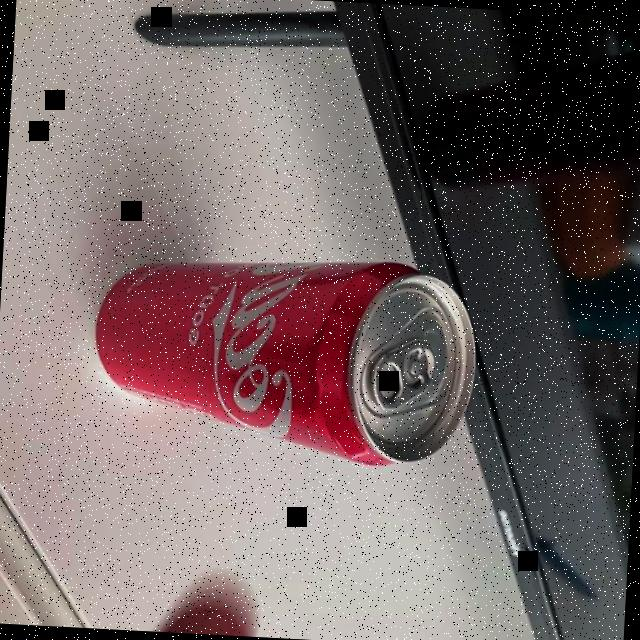can: (61, 186, 528, 519)
